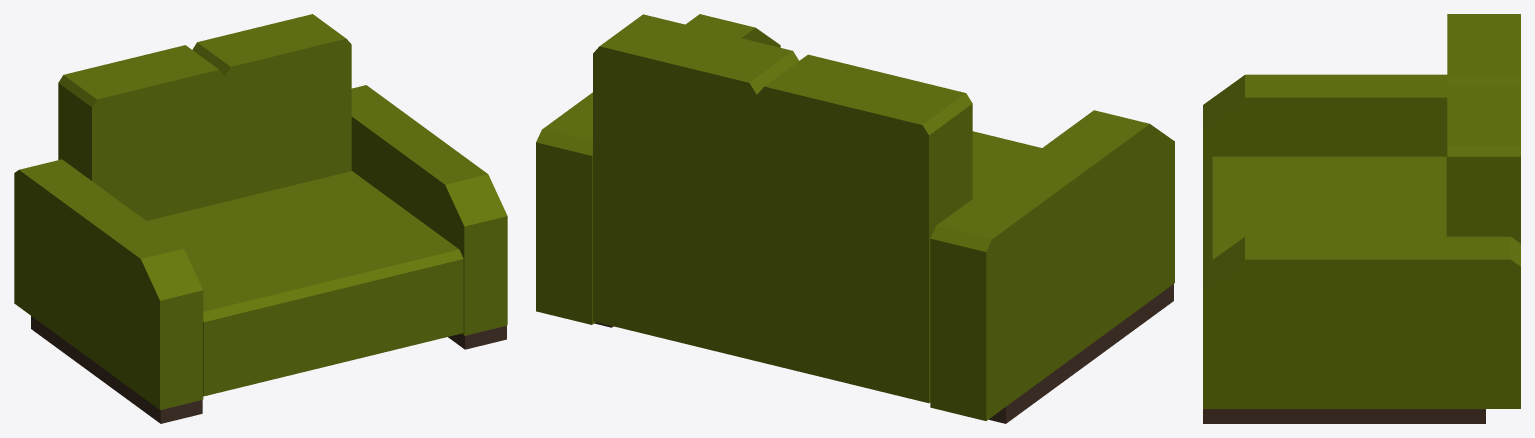
Rendered from Accesories_Sofa.006.glb.
The picture shows the model from 3 angles, left to right: view 1: azimuth 30°, elevation 25°; view 2: azimuth 150°, elevation 25°; view 3: azimuth 270°, elevation 25°; orthographic projection. The views are drawn at different scales.
Parts seen in each view (by area): view 1: Accesories_Sofa.006; view 2: Accesories_Sofa.006; view 3: Accesories_Sofa.006.
Part boxes in pixels (x1,y1,x2,y2): Accesories_Sofa.006: (14,14,507,423); Accesories_Sofa.006: (536,14,1174,423); Accesories_Sofa.006: (1203,14,1520,423).
Bounding box in the file's own units: 1.18 × 0.7512 × 0.8605.
1 material, 1 textured.
